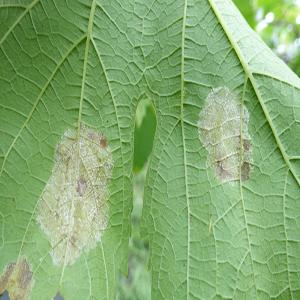Folha: (0, 0, 299, 299)
Fungo: (35, 121, 115, 267), (196, 85, 254, 183), (0, 249, 38, 300), (75, 174, 87, 196)
